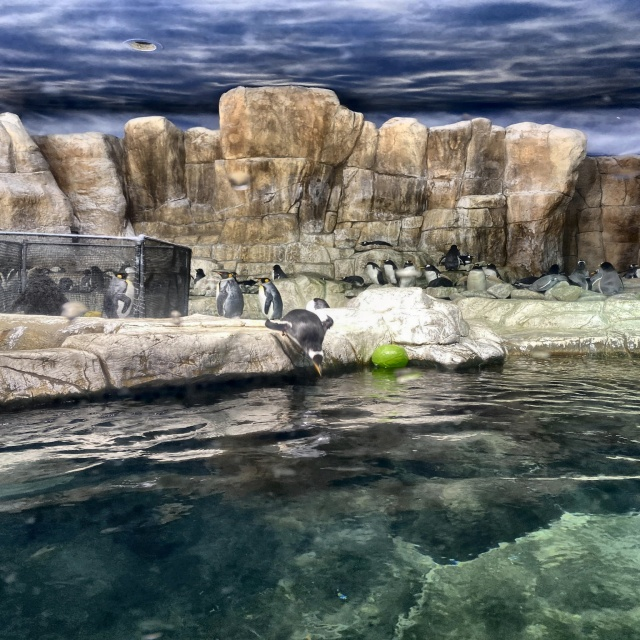penguin: (270, 312, 340, 374), (92, 272, 138, 318), (208, 269, 244, 319), (258, 274, 282, 318), (458, 263, 486, 297), (381, 257, 404, 293), (442, 244, 466, 272), (594, 262, 614, 295), (87, 262, 111, 289), (360, 260, 383, 288), (568, 259, 591, 286), (268, 259, 292, 282), (480, 261, 498, 285), (419, 264, 439, 285), (78, 268, 90, 293), (190, 265, 205, 282), (547, 262, 559, 282)
